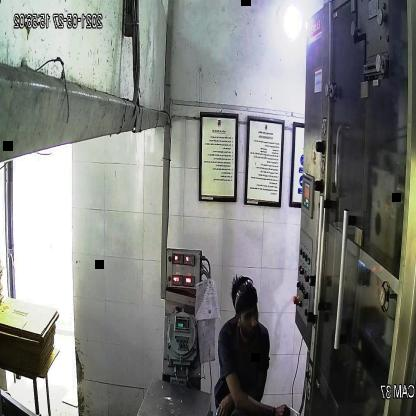no_goggles: (238, 302, 262, 326)
